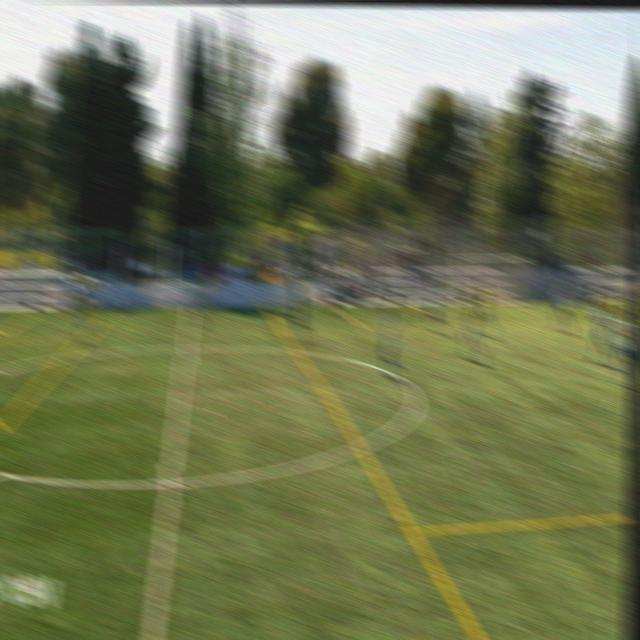halfcircle_bottom: (154, 465, 185, 504)
halfcircle_top: (177, 336, 196, 361)
